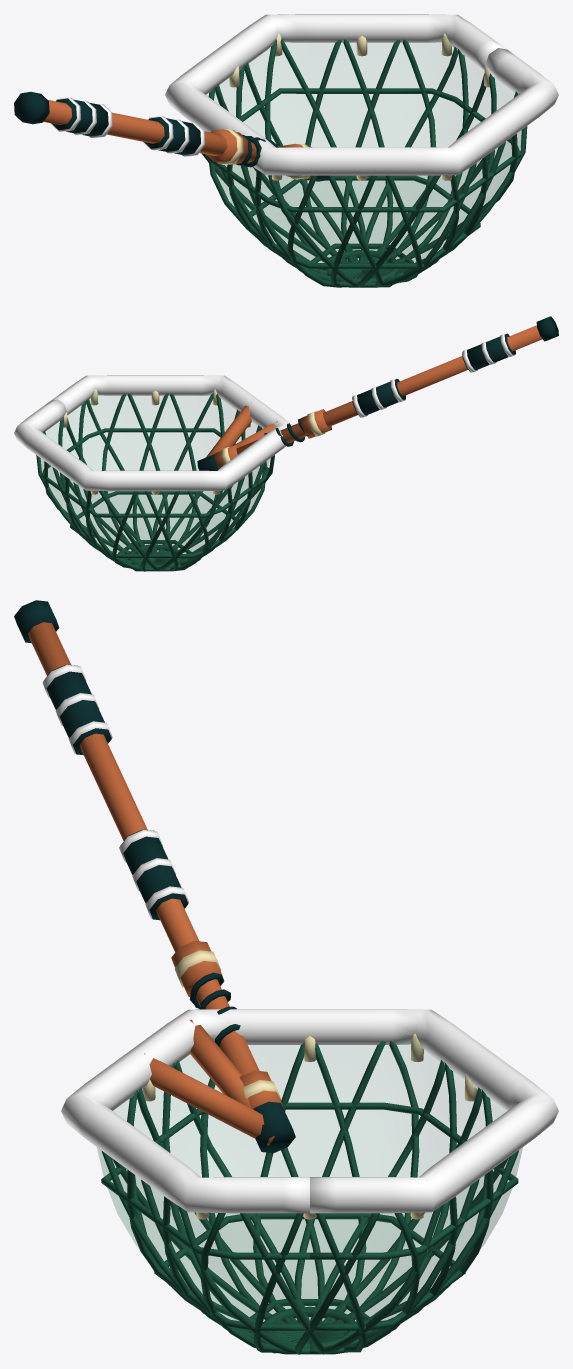
Rendered from net-red-cobre.glb.
3 renders of one model, top to bottom at view 1: azimuth 30°, elevation 25°; view 2: azimuth 150°, elevation 25°; view 3: azimuth 270°, elevation 25°, orthographic. The views are drawn at different scales.
Visible parts, largest first — view 1: Open woven pouch.003, Woven green cord.003, NetColor.007, Equipment lagoon.009, Reclaimed copper, NetColor.006, Equipment cream.010, Equipment cream.009; view 2: Open woven pouch.003, Woven green cord.003, NetColor.007, Reclaimed copper, Equipment lagoon.009, Reclaimed copper.001, NetColor.006, Equipment cream.010; view 3: Open woven pouch.003, Woven green cord.003, NetColor.007, Reclaimed copper, Equipment lagoon.009, Reclaimed copper.001, NetColor.006, Equipment lagoon.010, Equipment cream.010, Equipment cream.009.
Part boxes in pixels (<box>): Open woven pouch.003: <box>207,35,523,283</box>; Woven green cord.003: <box>201,38,527,287</box>; NetColor.007: <box>165,14,558,175</box>; Equipment lagoon.009: <box>14,91,278,168</box>; Reclaimed copper: <box>43,100,311,179</box>; NetColor.006: <box>51,97,205,156</box>; Equipment cream.010: <box>229,33,490,180</box>; Equipment cream.009: <box>217,129,309,179</box>; Open woven pouch.003: <box>39,390,269,568</box>; Woven green cord.003: <box>36,392,274,571</box>; NetColor.007: <box>14,375,292,491</box>; Reclaimed copper: <box>214,325,542,468</box>; Equipment lagoon.009: <box>264,316,558,446</box>; Reclaimed copper.001: <box>206,402,277,457</box>; NetColor.006: <box>352,333,515,417</box>; Equipment cream.010: <box>63,389,250,494</box>; Open woven pouch.003: <box>97,1035,522,1350</box>; Woven green cord.003: <box>101,1041,518,1354</box>; NetColor.007: <box>61,1009,558,1213</box>; Reclaimed copper: <box>28,622,283,1108</box>; Equipment lagoon.009: <box>14,600,240,1047</box>; Reclaimed copper.001: <box>144,1019,274,1145</box>; NetColor.006: <box>42,664,188,919</box>; Equipment lagoon.010: <box>253,1101,295,1153</box>; Equipment cream.010: <box>142,1033,477,1219</box>; Equipment cream.009: <box>174,950,280,1100</box>.
Bounding box in the file's own units: 3.02 × 1.78 × 1.87.
